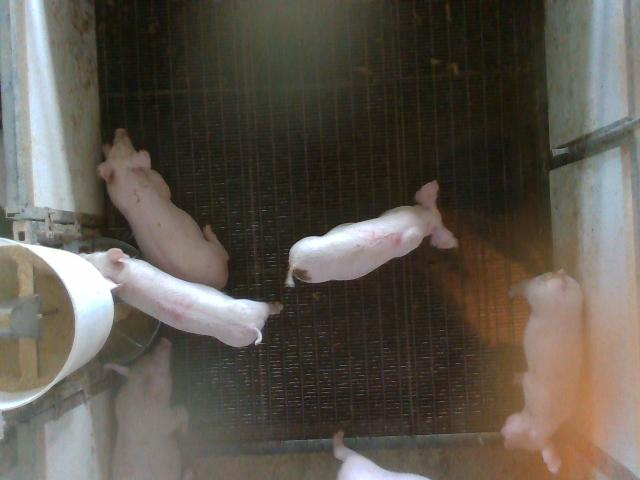pig-4: (80, 249, 281, 347)
pig-5: (285, 180, 458, 286)
